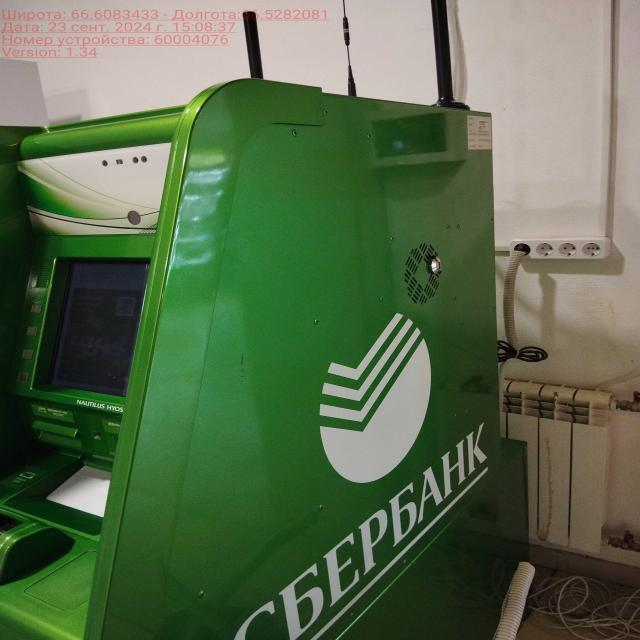bank: (0, 81, 531, 640)
